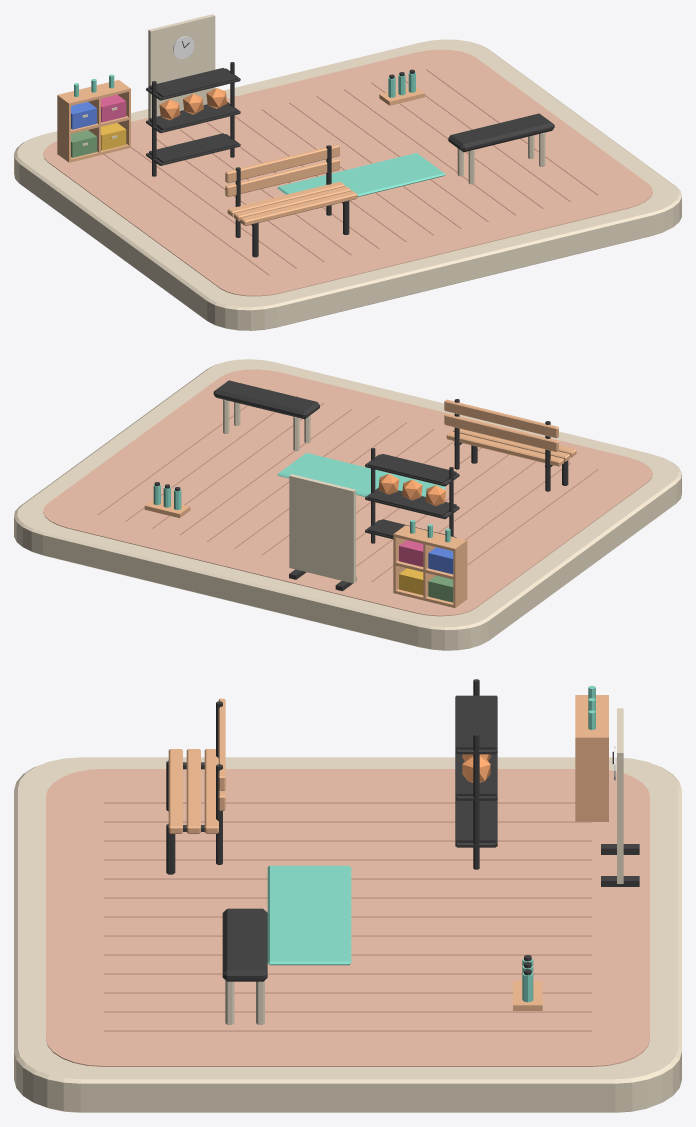
The model's file is room.fbx.
3 renders of one model, top to bottom at view 1: azimuth 30°, elevation 25°; view 2: azimuth 150°, elevation 25°; view 3: azimuth 270°, elevation 25°, orthographic. The views are drawn at different scales.
Visible parts, largest first — view 1: COM-02 Floor Surface, COM-01 Rounded Base Direct, Panel, Exercise mat, Cushion, Back slat.001, Back slat, Ball shelf, Ball shelf.002, Seat slat, Ball shelf.001, Cubbies shelf.002 (+7 smaller); view 2: COM-02 Floor Surface, COM-01 Rounded Base Direct, Panel, Exercise mat, Cushion, Back slat, Back slat.001, Ball shelf.002, Seat slat.002, Ball shelf.001, Cubbies divider, Cubbies shelf.002 (+5 smaller); view 3: COM-02 Floor Surface, COM-01 Rounded Base Direct, Exercise mat, Cushion, Cubbies divider.002, Ball shelf.002, Ball shelf, Seat slat, Seat slat.001, Panel, Cubbies shelf.002, Seat slat.002 (+17 smaller).
Part boxes in pixels (left/top/right/bottom): COM-02 Floor Surface: left=43, top=49, right=652, bottom=296; COM-01 Rounded Base Direct: left=14, top=39, right=681, bottom=330; Panel: left=148, top=14, right=215, bottom=119; Exercise mat: left=277, top=153, right=445, bottom=196; Cushion: left=448, top=113, right=554, bottom=152; Back slat.001: left=225, top=144, right=339, bottom=183; Back slat: left=225, top=158, right=339, bottom=196; Ball shelf: left=149, top=133, right=237, bottom=163; Ball shelf.002: left=149, top=68, right=237, bottom=97; Seat slat: left=240, top=191, right=357, bottom=225; Ball shelf.001: left=149, top=103, right=237, bottom=130; Cubbies shelf.002: left=57, top=80, right=130, bottom=105; COM-02 Floor Surface: left=43, top=369, right=652, bottom=616; COM-01 Rounded Base Direct: left=14, top=359, right=681, bottom=650; Panel: left=289, top=474, right=355, bottom=583; Exercise mat: left=277, top=453, right=445, bottom=496; Cushion: left=213, top=380, right=319, bottom=419; Back slat: left=444, top=413, right=558, bottom=452; Back slat.001: left=444, top=399, right=558, bottom=438; Ball shelf.002: left=368, top=453, right=456, bottom=483; Seat slat.002: left=446, top=431, right=563, bottom=466; Ball shelf.001: left=368, top=489, right=456, bottom=516; Cubbies divider: left=453, top=541, right=467, bottom=607; Cubbies shelf.002: left=393, top=525, right=466, bottom=551; COM-02 Floor Surface: left=46, top=769, right=649, bottom=1066; COM-01 Rounded Base Direct: left=14, top=757, right=681, bottom=1112; Exercise mat: left=267, top=865, right=351, bottom=965; Cushion: left=222, top=908, right=267, bottom=981; Cubbies divider.002: left=575, top=738, right=608, bottom=821; Ball shelf.002: left=456, top=695, right=496, bottom=749; Ball shelf: left=456, top=800, right=496, bottom=842; Seat slat: left=168, top=749, right=182, bottom=833; Seat slat.001: left=186, top=749, right=200, bottom=833; Panel: left=617, top=708, right=623, bottom=883; Cubbies shelf.002: left=575, top=695, right=608, bottom=737; Seat slat.002: left=204, top=749, right=218, bottom=833.
Size of the model in its own units: 600 by 148 by 520.
